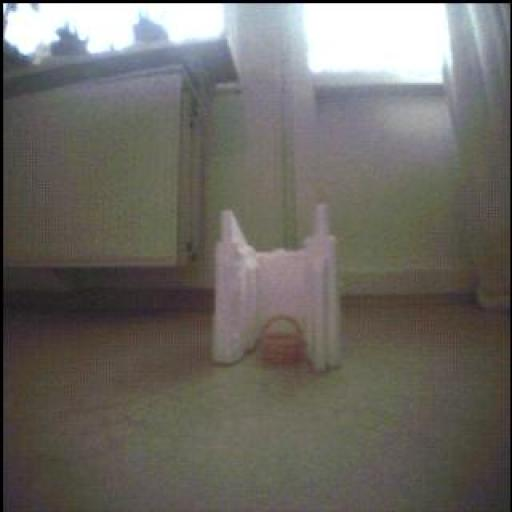Basket: (260, 316, 307, 366)
